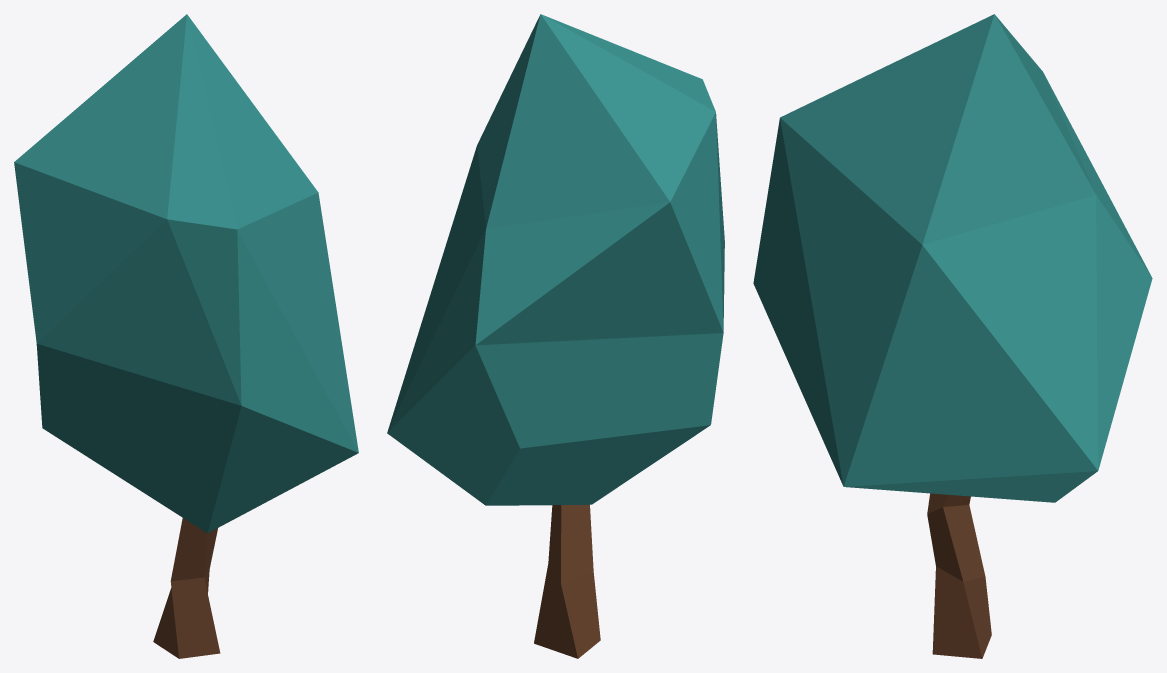
Rendered from Tree_51_Blue.fbx.
3 views of the same model, side by side, from view 1: azimuth 30°, elevation 25°; view 2: azimuth 150°, elevation 25°; view 3: azimuth 270°, elevation 25° (orthographic). The views are drawn at different scales.
Visible parts, largest first — view 1: Tree_51_Blue_Part_2, Tree_51_Blue_Part_1; view 2: Tree_51_Blue_Part_2, Tree_51_Blue_Part_1; view 3: Tree_51_Blue_Part_2, Tree_51_Blue_Part_1.
Part boxes in pixels (left/top/right/bottom): Tree_51_Blue_Part_2: left=14, top=14, right=358, bottom=533; Tree_51_Blue_Part_1: left=153, top=518, right=220, bottom=658; Tree_51_Blue_Part_2: left=387, top=14, right=724, bottom=505; Tree_51_Blue_Part_1: left=534, top=504, right=600, bottom=658; Tree_51_Blue_Part_2: left=753, top=14, right=1152, bottom=502; Tree_51_Blue_Part_1: left=927, top=493, right=991, bottom=658.
Size of the model in its own units: 257 by 577 by 327.
